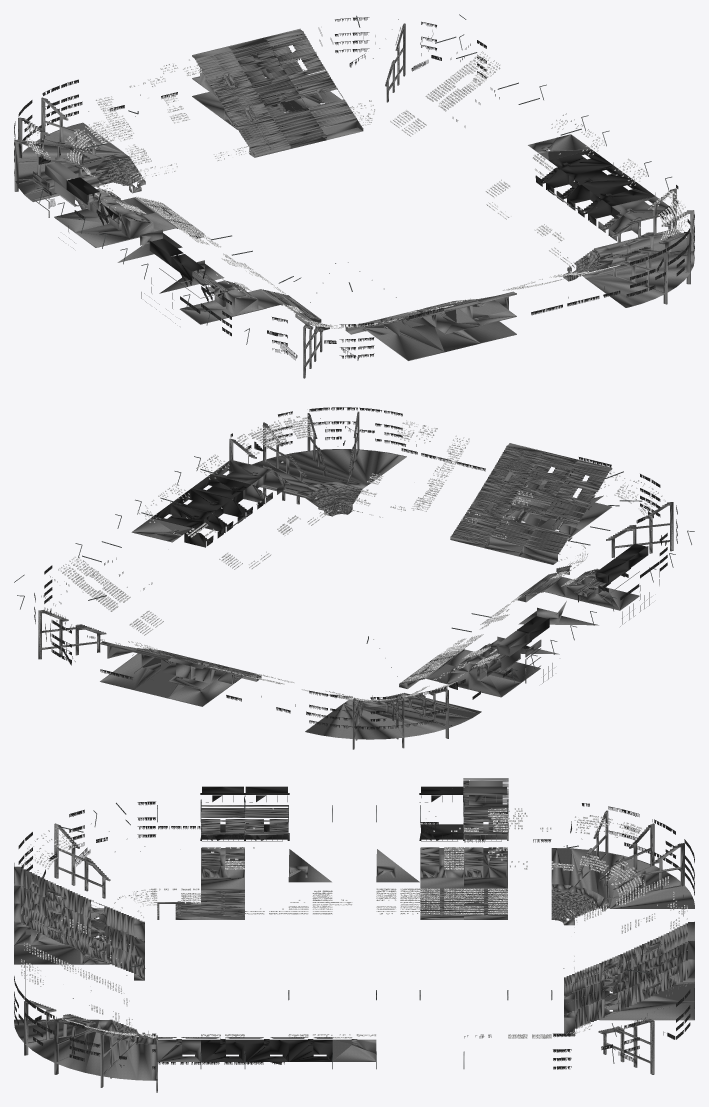
File: modern_stadium_part01.glb
3 views of the same model, one above another, from view 1: azimuth 30°, elevation 25°; view 2: azimuth 150°, elevation 25°; view 3: azimuth 270°, elevation 25° (orthographic). The views are drawn at different scales.
Parts seen in each view (by area): view 1: Material2.003, Material2.008+Material2.012+Material2.020+Material2.025, Material3.010, Material2.072+Material2.075, Material2.032; view 2: Material2.003, Material2.008+Material2.012+Material2.020+Material2.025, Material2.072+Material2.075, Material3.010, Material2.032; view 3: Material2.003, Material2.008+Material2.012+Material2.020+Material2.025, Material2.072+Material2.075, Material3.010, Material2.032.
Part boxes in pixels (x1,y1,x2,y2): Material2.003: (14, 23, 694, 378); Material2.008+Material2.012+Material2.020+Material2.025: (14, 17, 694, 360); Material3.010: (18, 19, 690, 374); Material2.072+Material2.075: (26, 51, 688, 328); Material2.032: (37, 14, 671, 344); Material2.003: (38, 411, 673, 749); Material2.008+Material2.012+Material2.020+Material2.025: (34, 407, 677, 729); Material2.072+Material2.075: (58, 415, 665, 701); Material3.010: (38, 409, 673, 748); Material2.032: (14, 440, 694, 683); Material2.003: (14, 805, 694, 1092); Material2.008+Material2.012+Material2.020+Material2.025: (14, 786, 694, 1069); Material2.072+Material2.075: (21, 808, 687, 1038); Material3.010: (39, 778, 694, 1074); Material2.032: (60, 799, 649, 1069).
Size of the model in its own units: 178 by 26.62 by 202.
6 materials, 4 textured.
